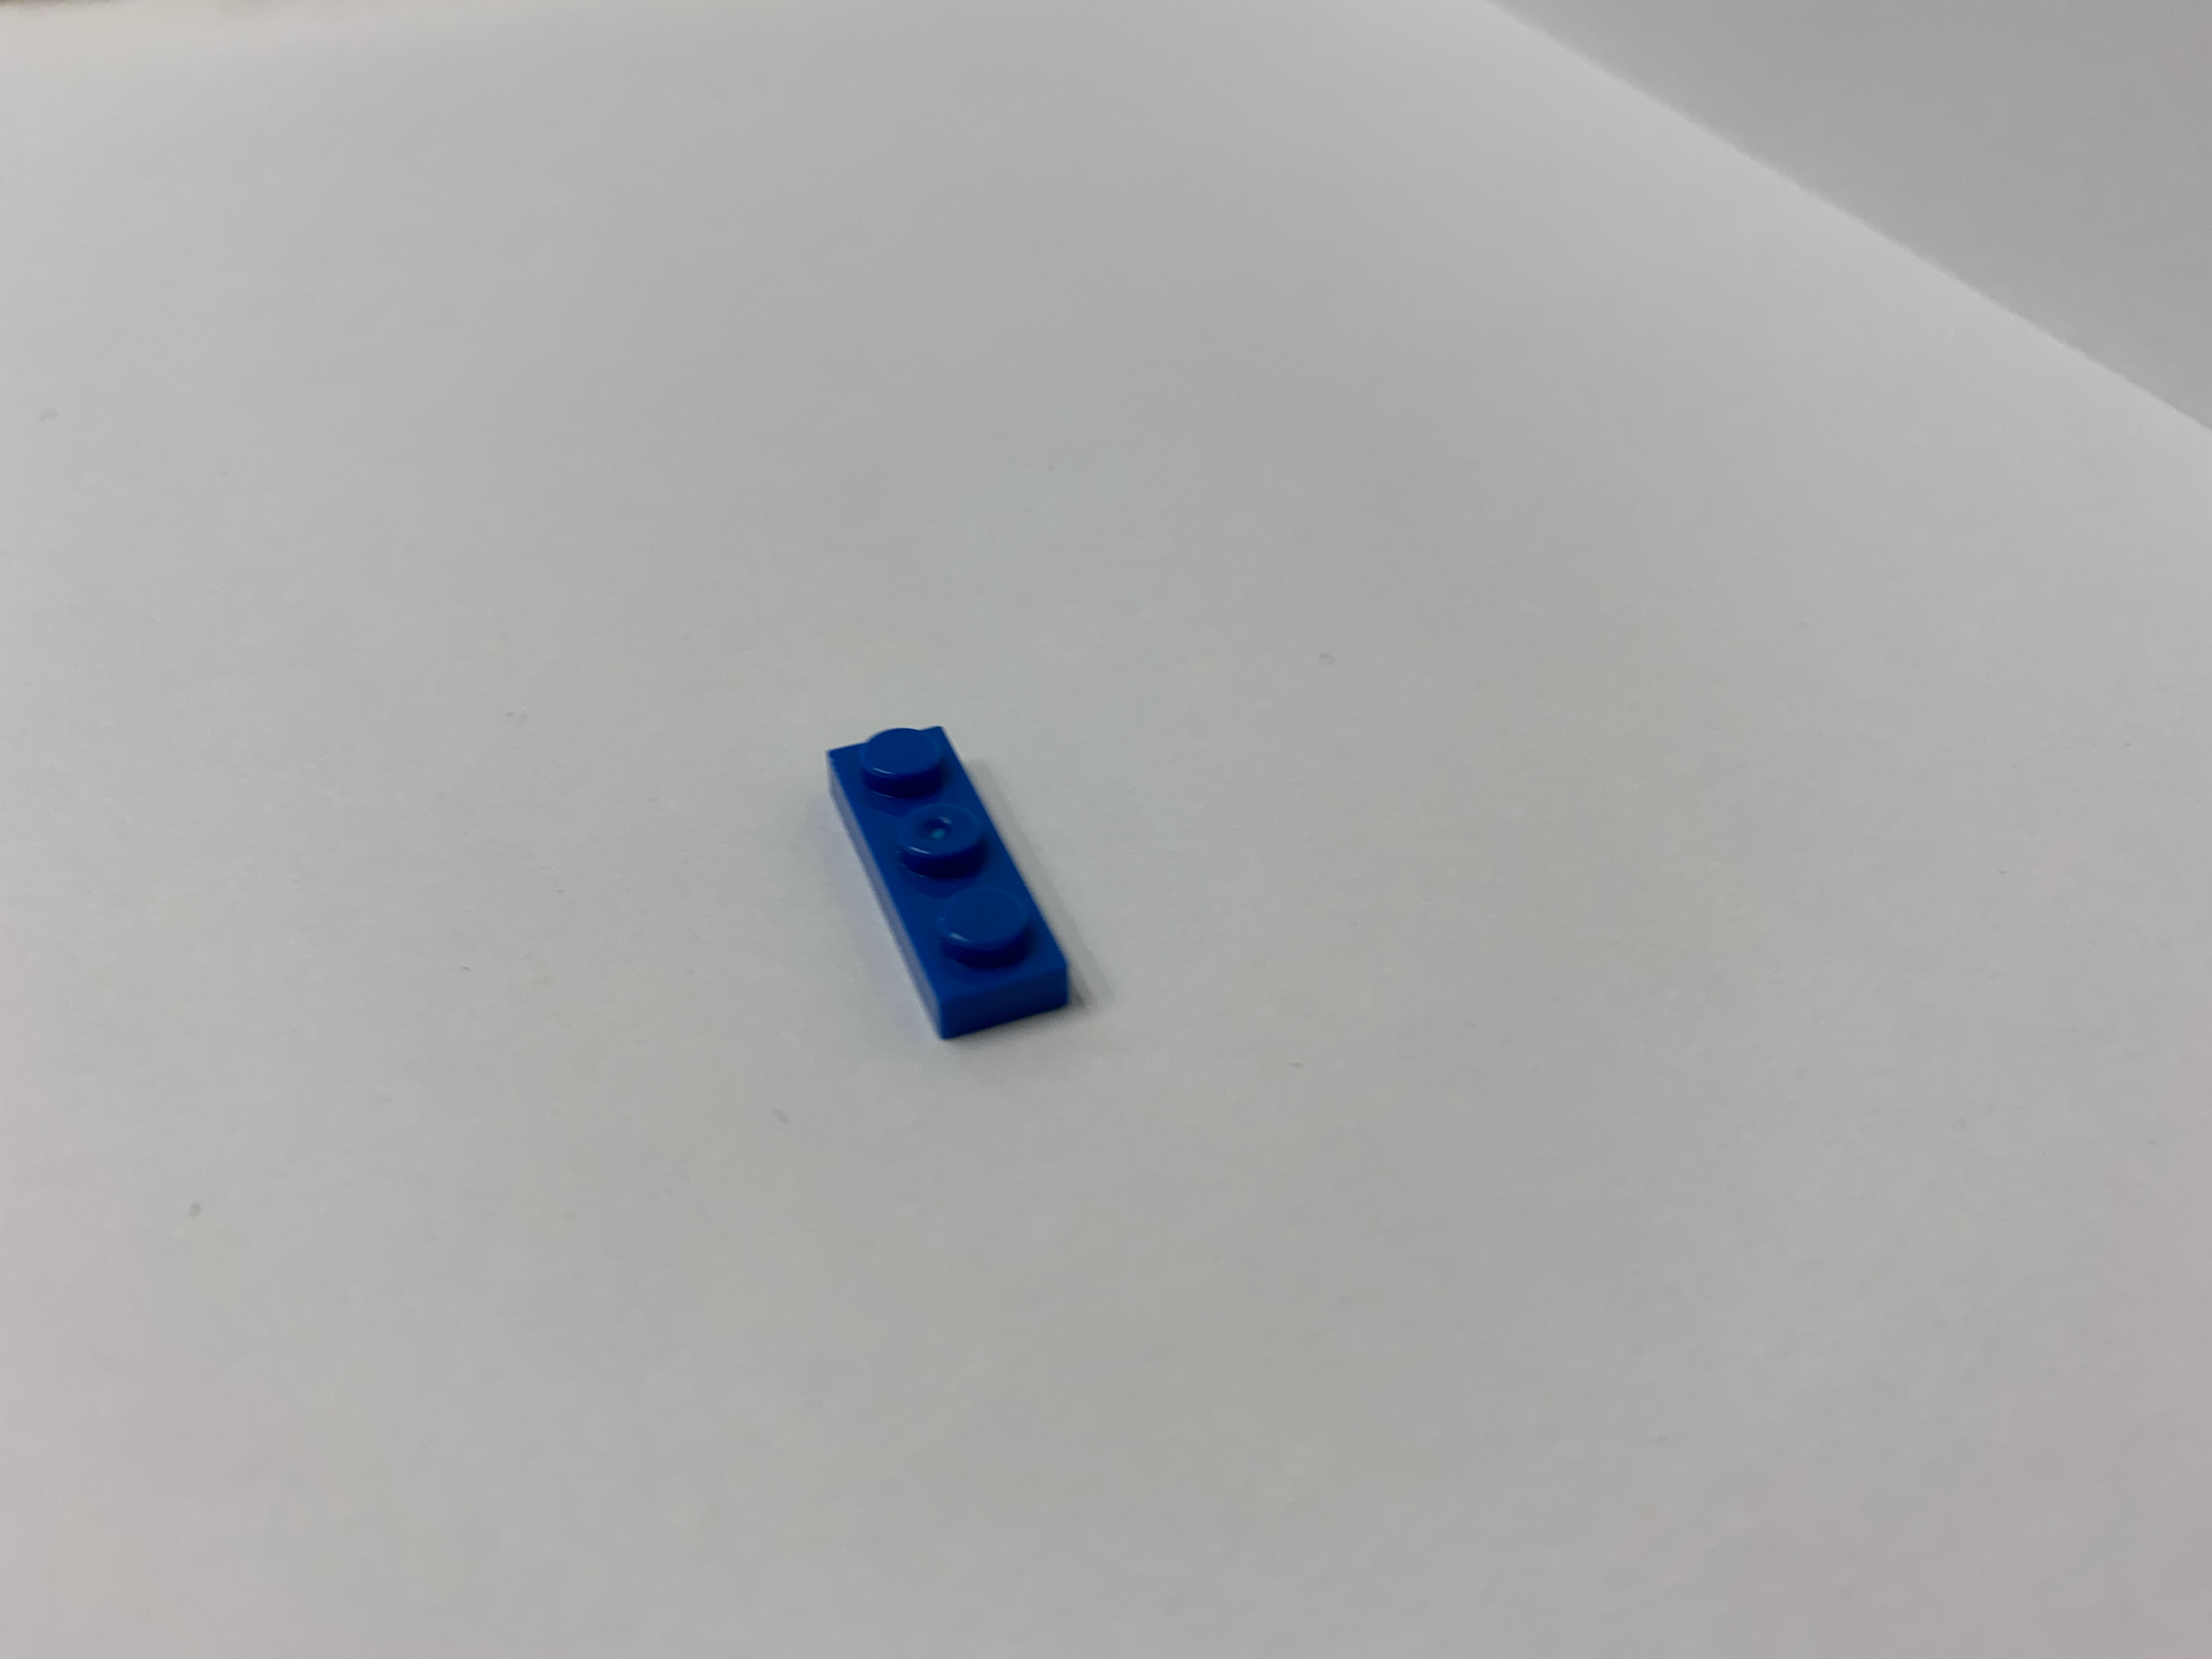car: (772, 702, 1108, 1082)
